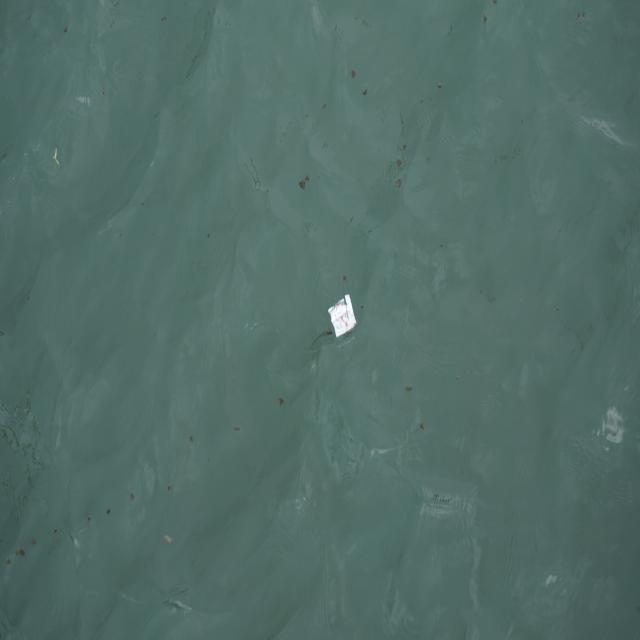Bungkus Makanan: (326, 288, 362, 343)
